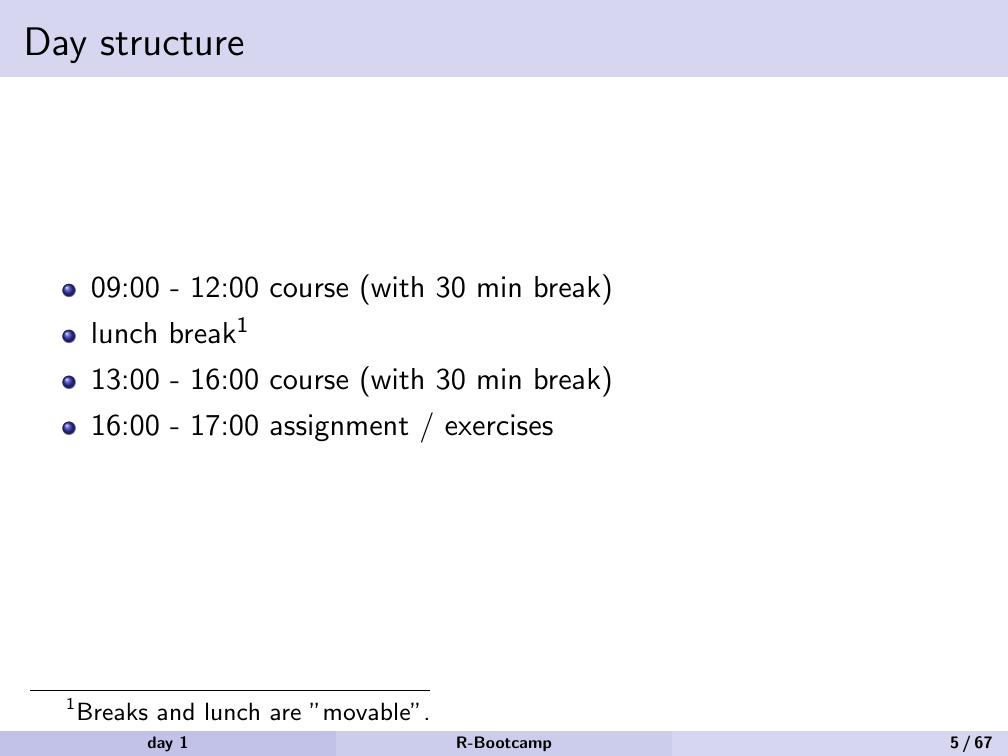Title: (13, 17, 261, 70)
